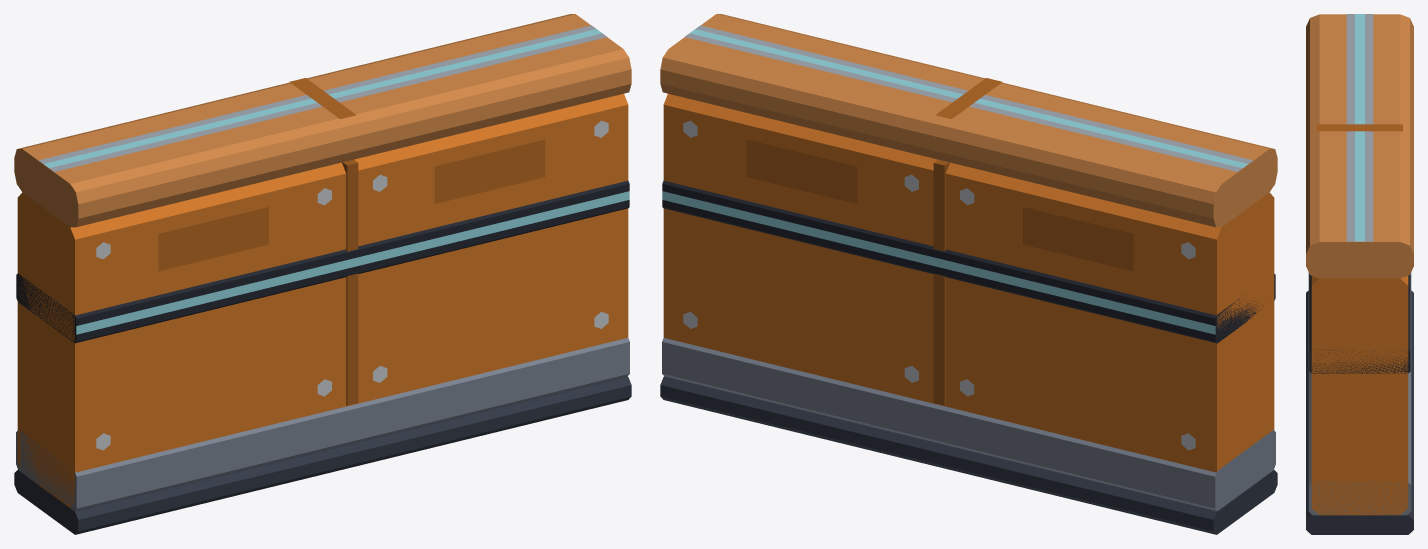
Rendered from space-wall1.glb.
3 views of the same model, side by side, from view 1: azimuth 30°, elevation 25°; view 2: azimuth 150°, elevation 25°; view 3: azimuth 270°, elevation 25° (orthographic). The views are drawn at different scales.
Parts seen in each view (by area): view 1: space-wall1; view 2: space-wall1; view 3: space-wall1.
Part boxes in pixels (box(x1,y1,x2,y2)): space-wall1: box(14, 14, 631, 534); space-wall1: box(660, 14, 1277, 534); space-wall1: box(1306, 14, 1413, 534).
Size of the model in its own units: 2 by 1.2 by 0.4.
